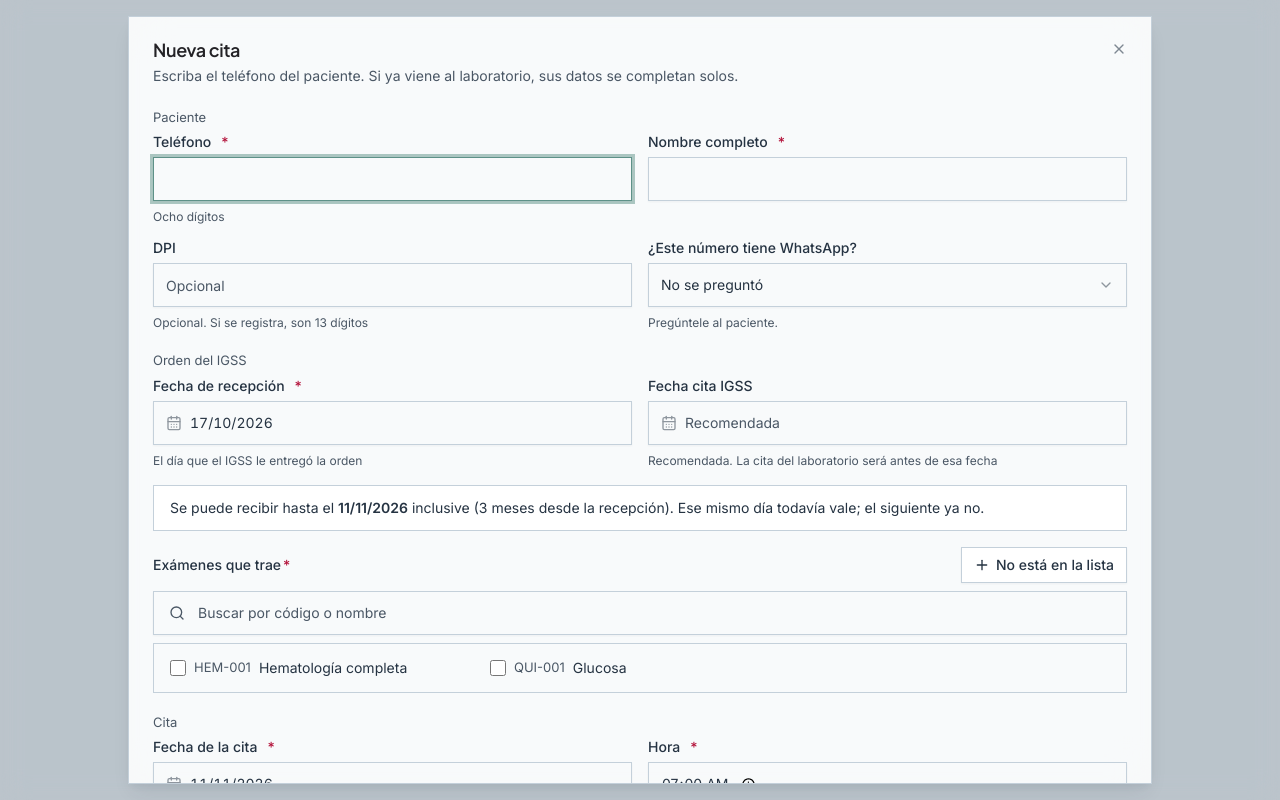
Test: Identificación por teléfono › deja elegir cuando varios pacientes comparten el número
In the field labelled "Teléfono *": (392, 179) [153,157,632,201], type "55512345"
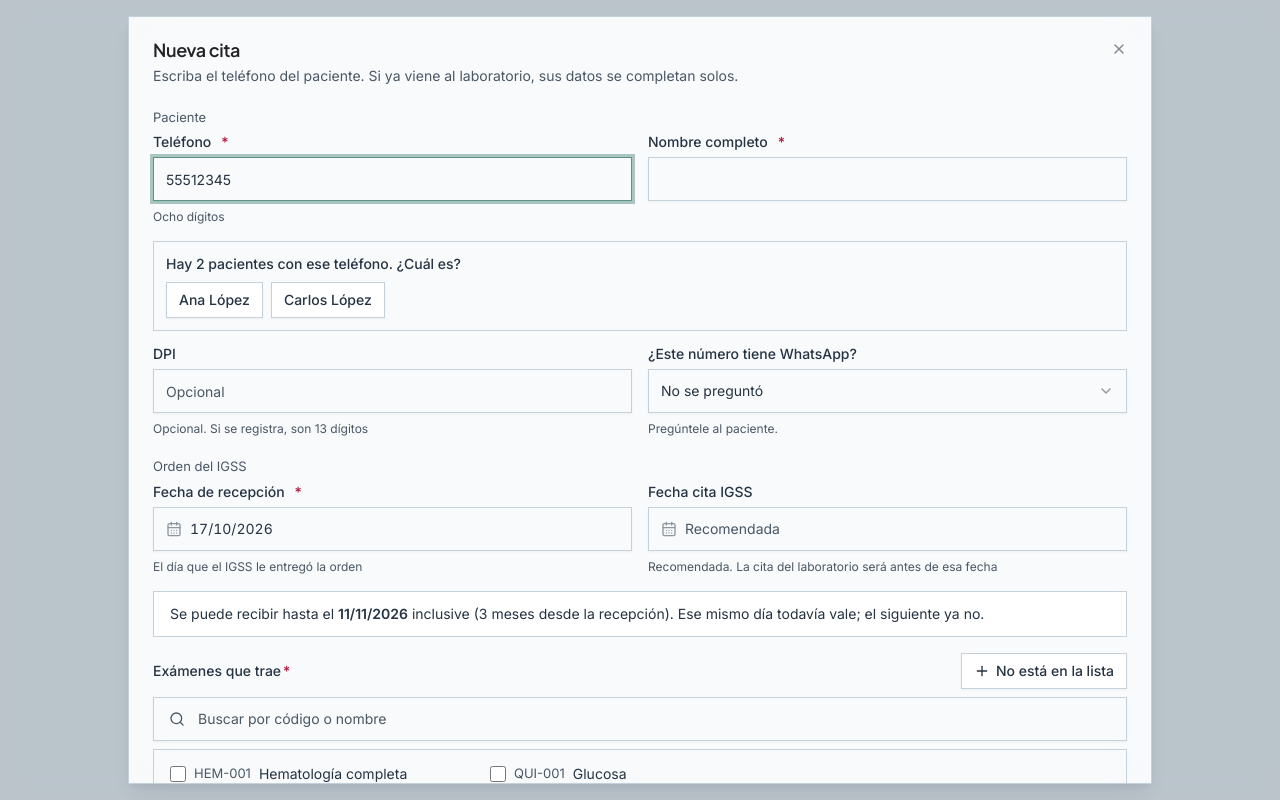
Expected: the text "Hay 2 pacientes con ese teléfono. ¿Cuál es?" is shown, [166,255,461,272]
Click the button "Carlos López": (328, 300) [271,282,385,318]
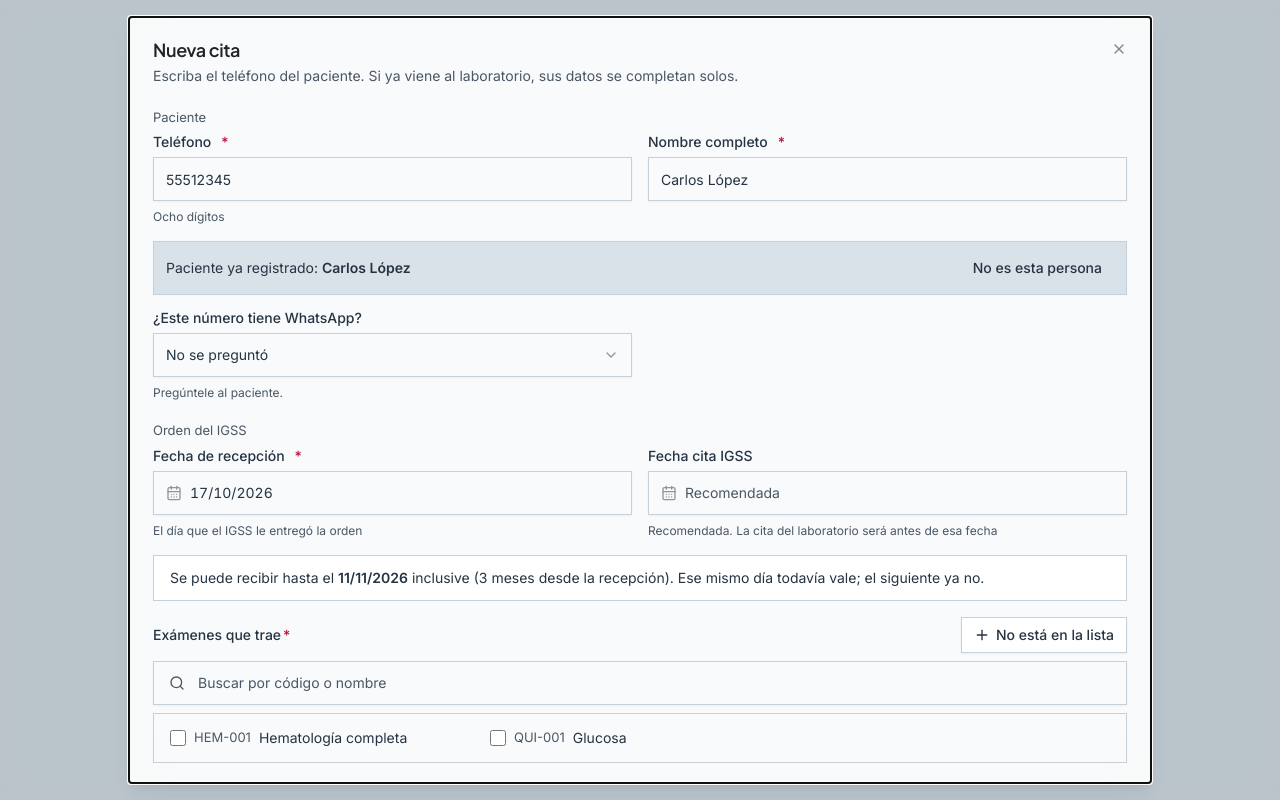
Expected: the field labelled "Nombre completo *" holds "Carlos López", [648,157,1127,201]
